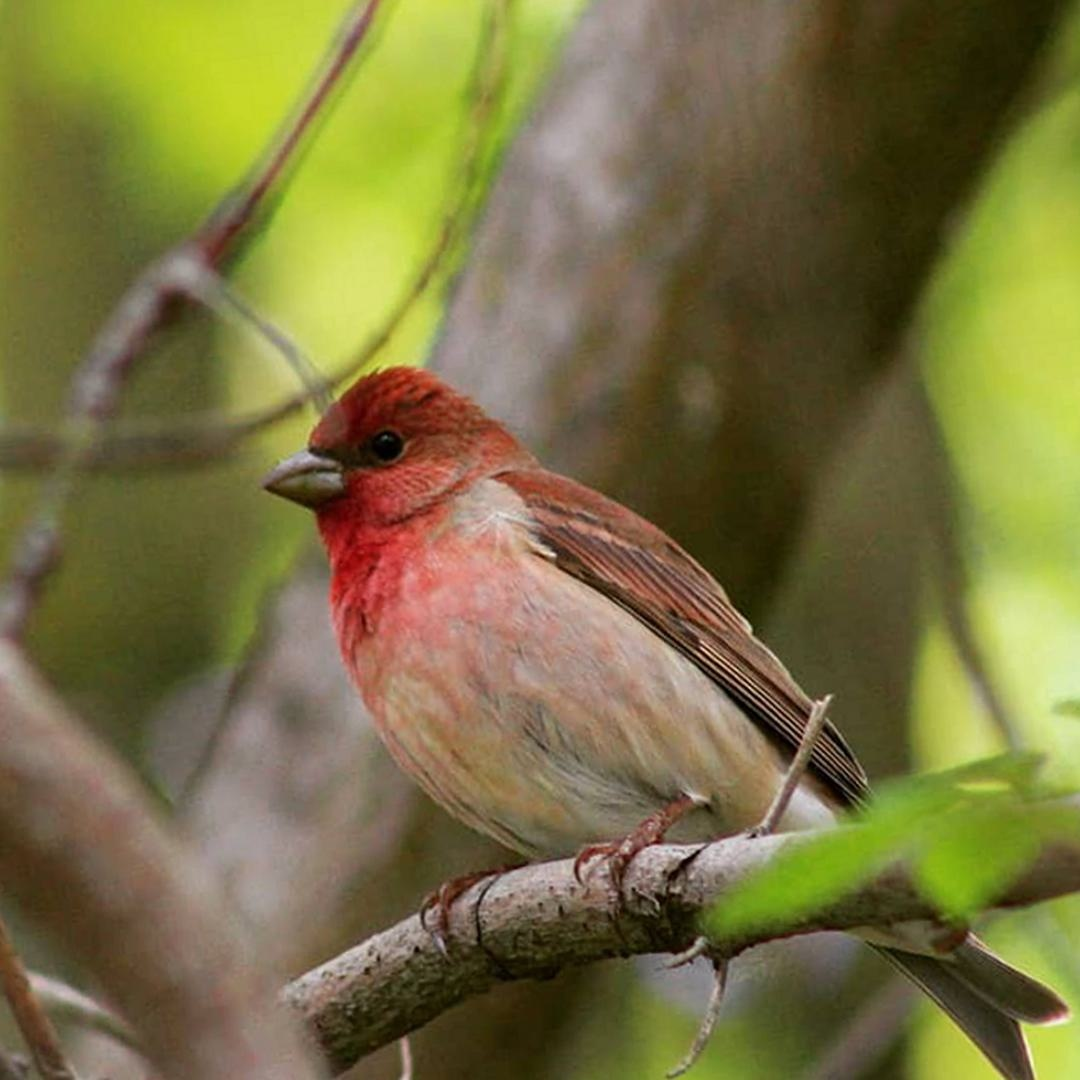rosefinch: (271, 351, 913, 935)
